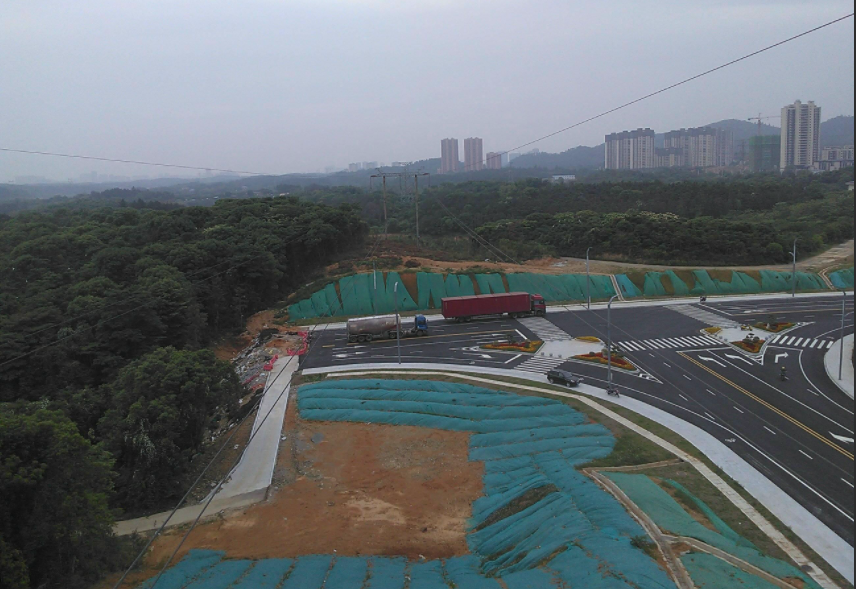绿膜: (462, 394, 618, 588), (286, 267, 619, 324), (136, 547, 503, 589), (294, 378, 520, 434), (594, 469, 727, 540), (640, 268, 829, 297), (617, 501, 677, 588), (678, 549, 781, 588), (698, 524, 761, 550), (780, 560, 824, 588), (614, 272, 643, 298), (825, 265, 854, 290)
